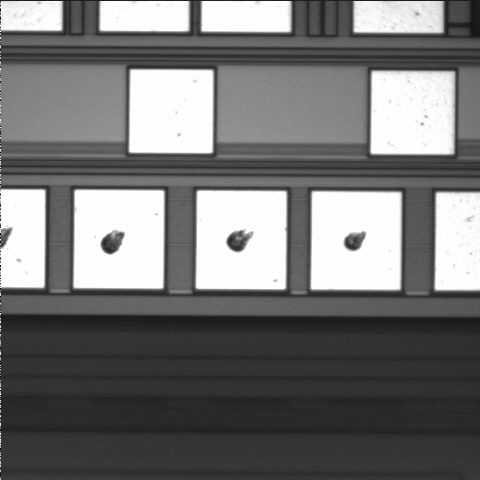pad: (196, 191, 287, 289), (74, 190, 164, 289), (311, 191, 401, 290), (129, 70, 213, 153), (371, 71, 454, 154)
